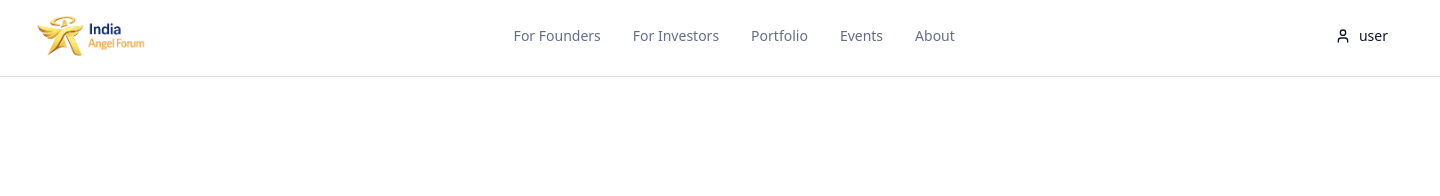
Navigation Component › Authenticated Regular User › should show My Registrations link in dropdown
This screenshot has width=1440, height=196.
Click the button "user" at coordinates (1362, 36), box [1319, 16, 1404, 56]
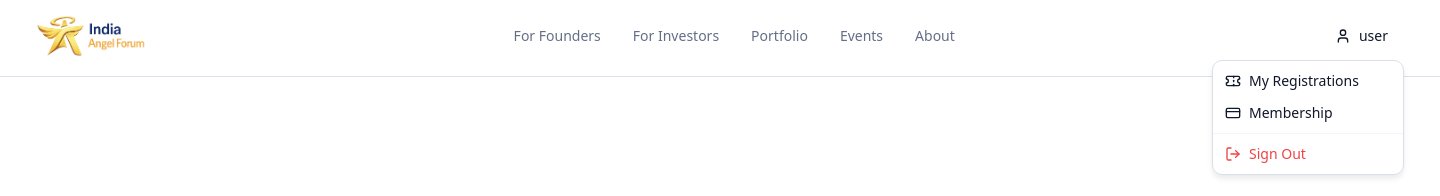
Now the menu item "My Registrations" is shown, box [1225, 71, 1359, 90]
